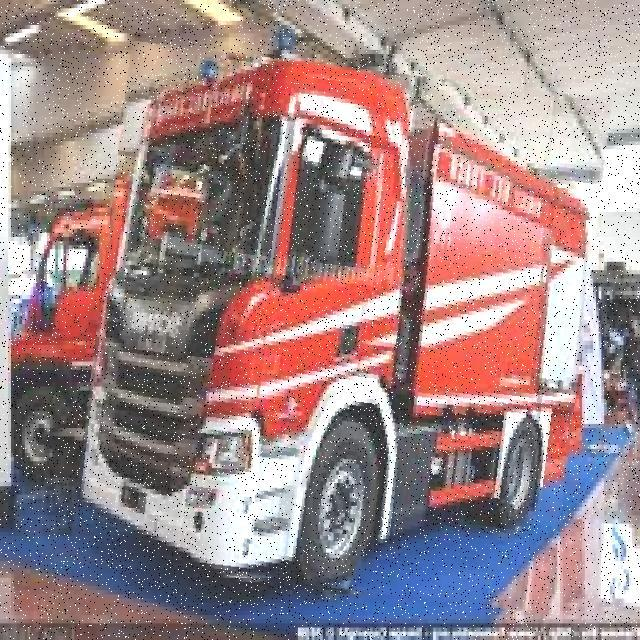pompier: (84, 54, 596, 601)
